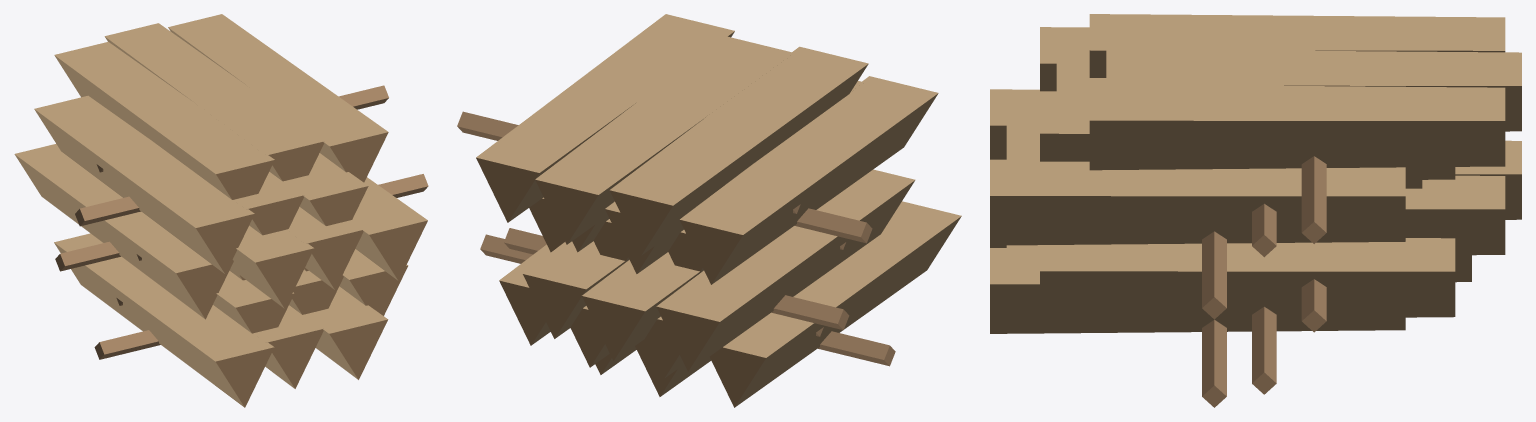
The model's file is item_001_firewood_l.glb.
The picture shows the model from 3 angles, left to right: view 1: azimuth 30°, elevation 25°; view 2: azimuth 150°, elevation 25°; view 3: azimuth 270°, elevation 25°; orthographic projection. The views are drawn at different scales.
Parts seen in each view (by area): view 1: item_001_firewood_l; view 2: item_001_firewood_l; view 3: item_001_firewood_l.
Part boxes in pixels (bbox=[...]): item_001_firewood_l: bbox=[14, 14, 428, 407]; item_001_firewood_l: bbox=[457, 14, 961, 407]; item_001_firewood_l: bbox=[990, 14, 1521, 407].
Size of the model in its own units: 0.57 by 0.345 by 0.64.
